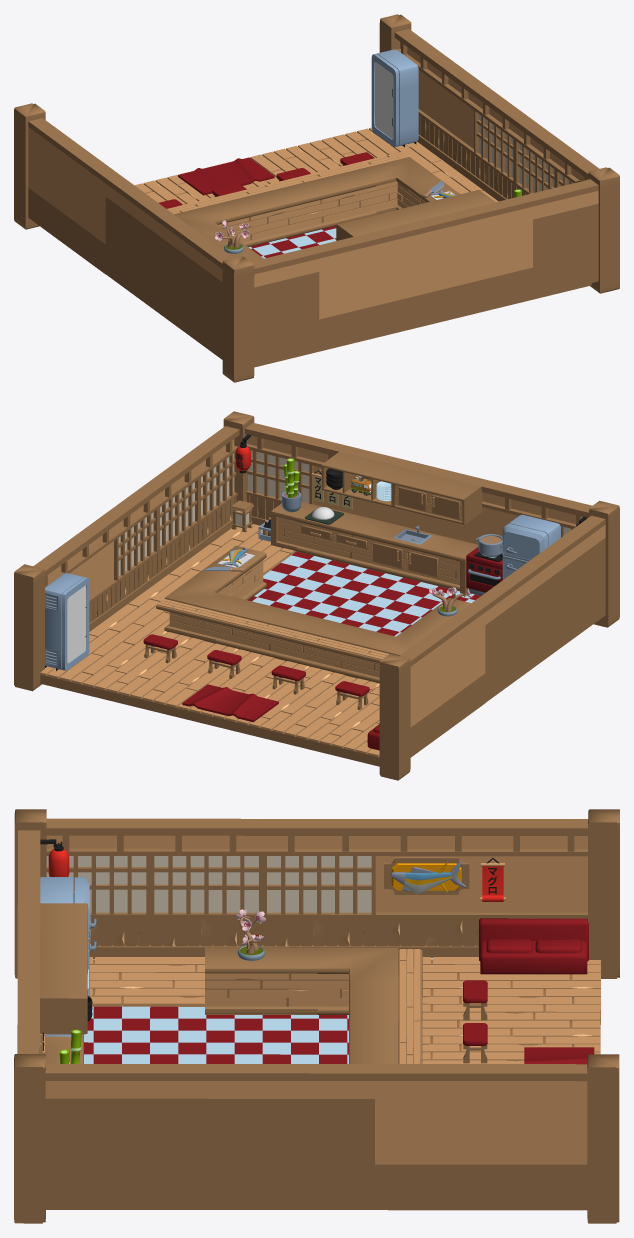
3 views of the same model, one above another, from view 1: azimuth 30°, elevation 25°; view 2: azimuth 150°, elevation 25°; view 3: azimuth 270°, elevation 25° (orthographic). The views are drawn at different scales.
Parts seen in each view (by area): view 1: Wall_Left.001; view 2: Wall_Left.001; view 3: Wall_Left.001.
Part boxes in pixels (x1,y1,x2,y2): Wall_Left.001: (14,14,619,382); Wall_Left.001: (14,411,619,780); Wall_Left.001: (14,809,619,1223).
Size of the model in its own units: 21.72 by 6.13 by 21.51.
34 materials, 29 textured.
